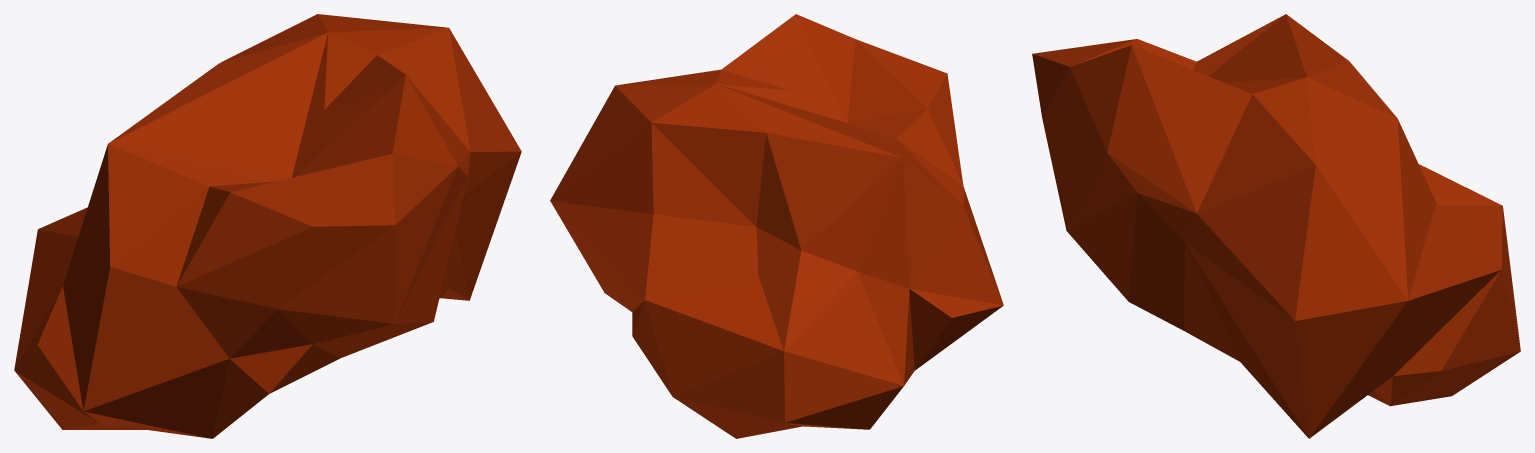
The model's file is sand_mob.glb.
The picture shows the model from 3 angles, left to right: view 1: azimuth 30°, elevation 25°; view 2: azimuth 150°, elevation 25°; view 3: azimuth 270°, elevation 25°; orthographic projection. The views are drawn at different scales.
Visible parts, largest first — view 1: Cube.003 - copy.017 - copy.005; view 2: Cube.003 - copy.017 - copy.005; view 3: Cube.003 - copy.017 - copy.005.
Boxes of the visible parts, x1,y1,x2,y2 form: Cube.003 - copy.017 - copy.005: (14, 14, 521, 438); Cube.003 - copy.017 - copy.005: (550, 14, 1003, 438); Cube.003 - copy.017 - copy.005: (1032, 14, 1520, 438).
Size of what is drawn, in the model's own units: 0.0638 by 0.0507 by 0.0563.
